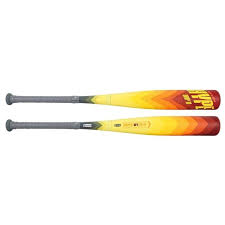baseball bat: (7, 115, 220, 136), (5, 89, 221, 109)
